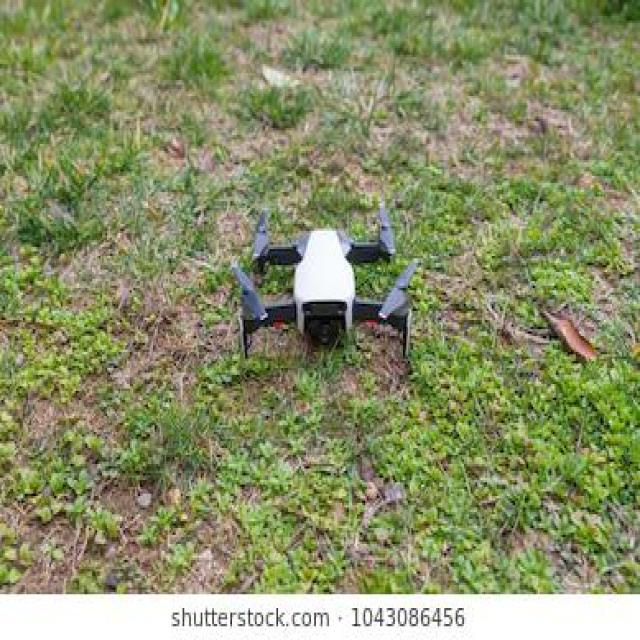drone: (220, 154, 436, 418)
